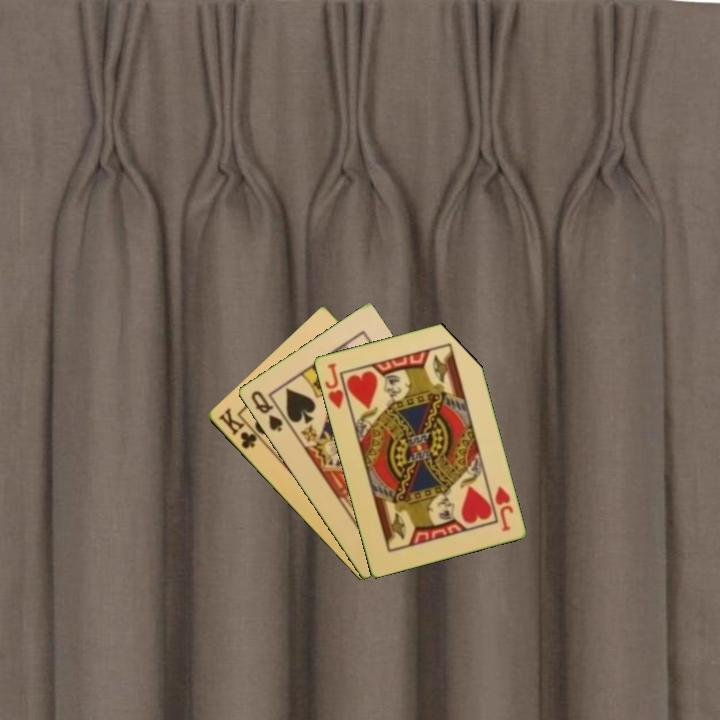Jh: (321, 359, 352, 412), (491, 483, 516, 534)
Kc: (214, 404, 265, 452)
Qs: (247, 387, 285, 434)
